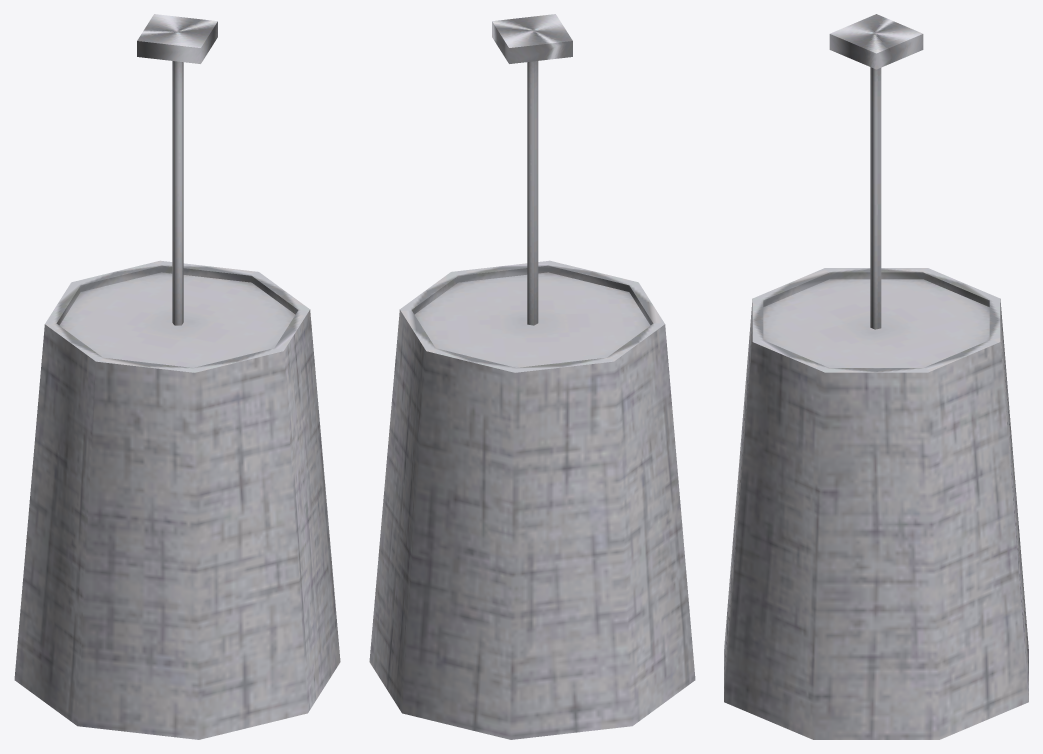
The model's file is furni_0200415.FBX.
3 views of the same model, side by side, from view 1: azimuth 30°, elevation 25°; view 2: azimuth 150°, elevation 25°; view 3: azimuth 270°, elevation 25° (orthographic).
Parts seen in each view (by area): view 1: furni_0200415; view 2: furni_0200415; view 3: furni_0200415.
Boxes of the visible parts, box(x1,y1,x2,y2) form: furni_0200415: box(14, 14, 340, 739); furni_0200415: box(369, 14, 695, 739); furni_0200415: box(724, 14, 1028, 739).
Size of the model in its own units: 27.05 by 62.87 by 27.05.
Materials: 1 (1 with a texture image).
